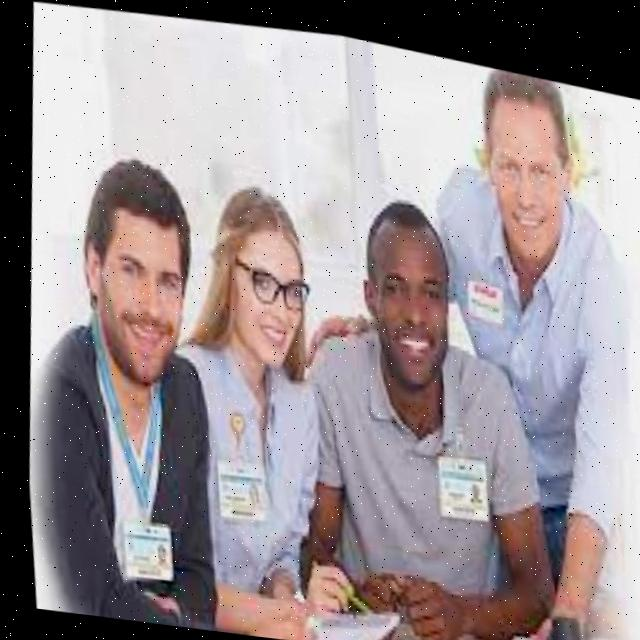id_card: (59, 316, 195, 587)
